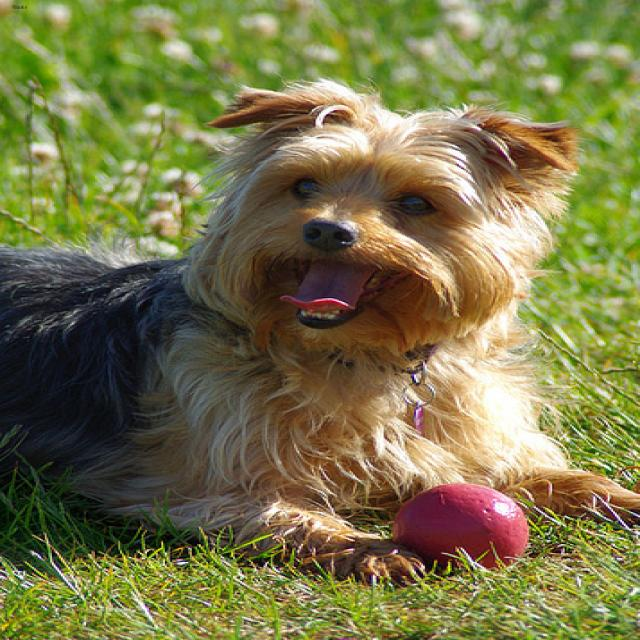dog-yorkshire_terrier: (2, 72, 636, 594)
